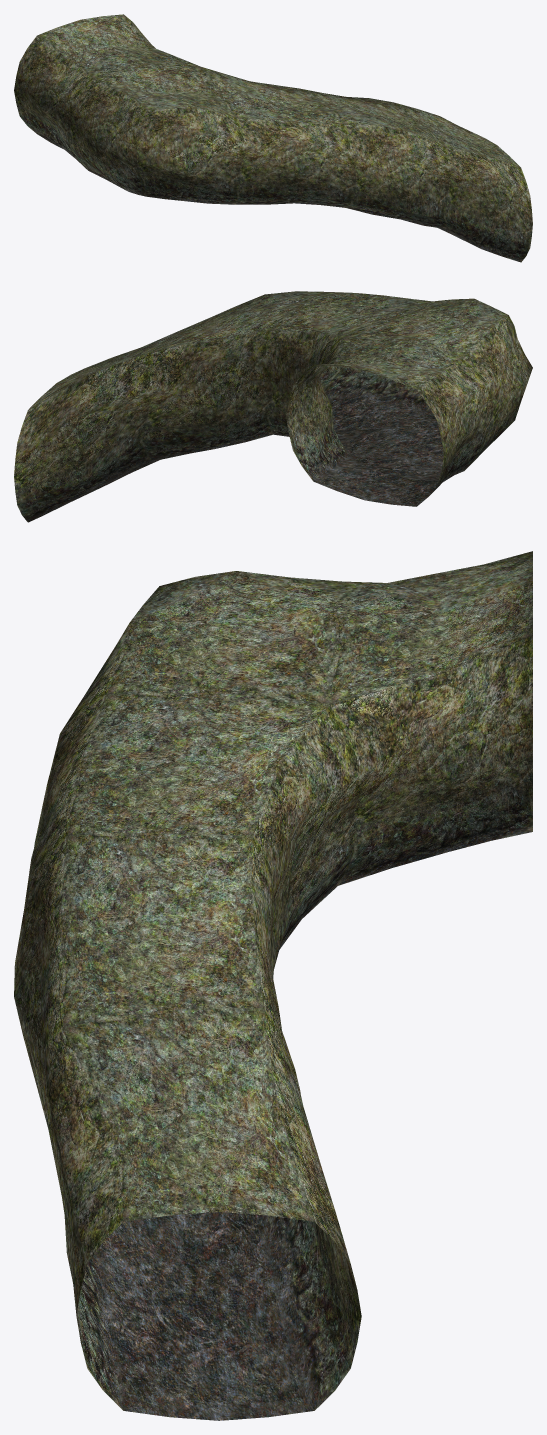
The model's file is thm_all_cave_s03_damprock_mirror_r17_r17.fbx.
The picture shows the model from 3 angles, top to bottom: view 1: azimuth 30°, elevation 25°; view 2: azimuth 150°, elevation 25°; view 3: azimuth 270°, elevation 25°; orthographic projection. The views are drawn at different scales.
Parts seen in each view (by area): view 1: mesh_node; view 2: mesh_node; view 3: mesh_node.
Part boxes in pixels (box(x1,y1,x2,y2)): mesh_node: box(14, 14, 532, 262); mesh_node: box(14, 291, 532, 522); mesh_node: box(14, 551, 532, 1420).
Bounding box in the file's own units: 32.95 × 19.86 × 18.36.
